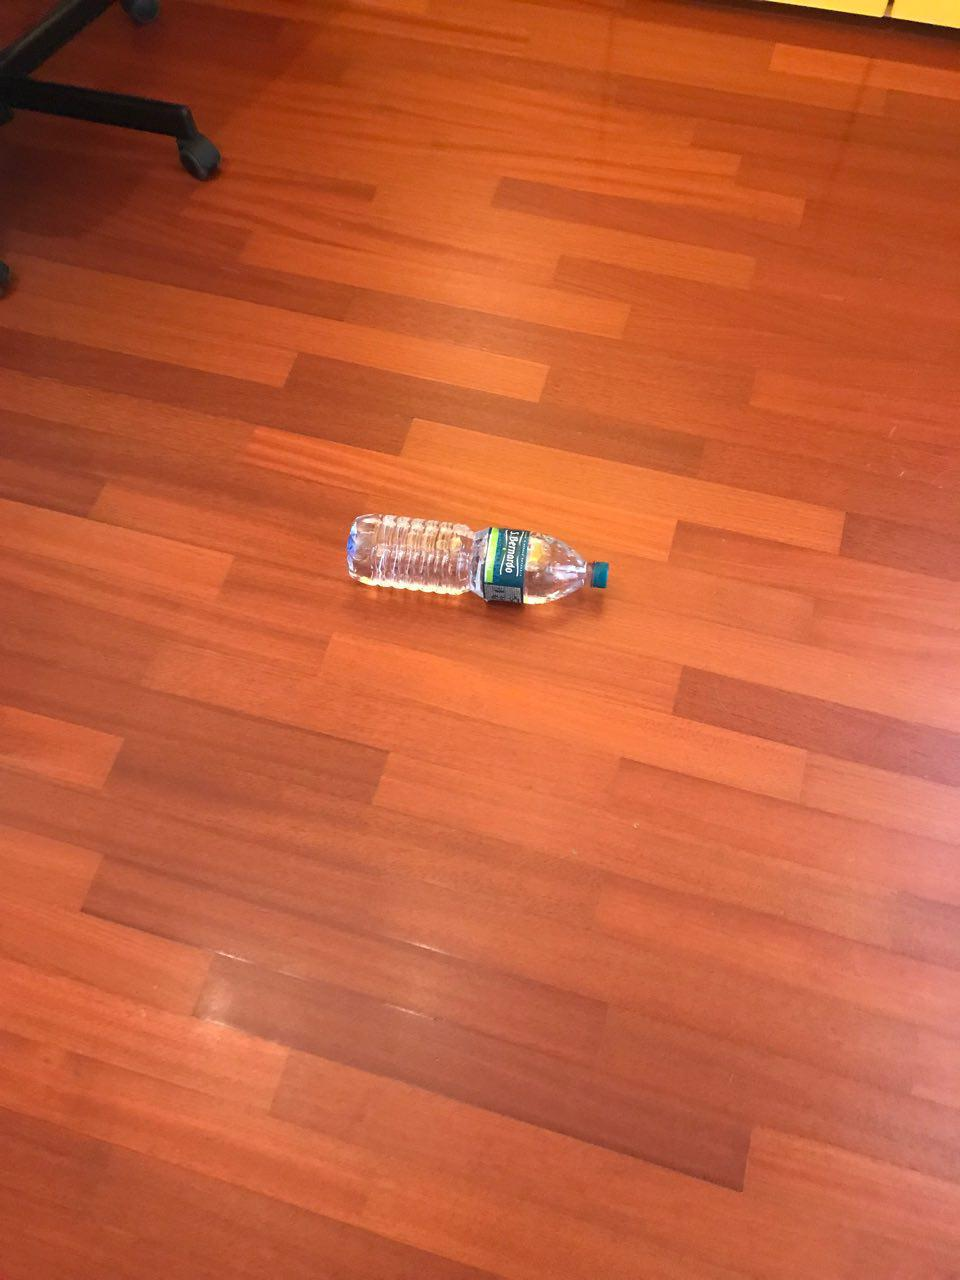san_bernardo: (345, 511, 611, 605)
